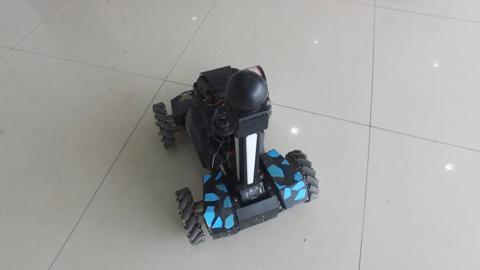chariot: (137, 61, 322, 249)
